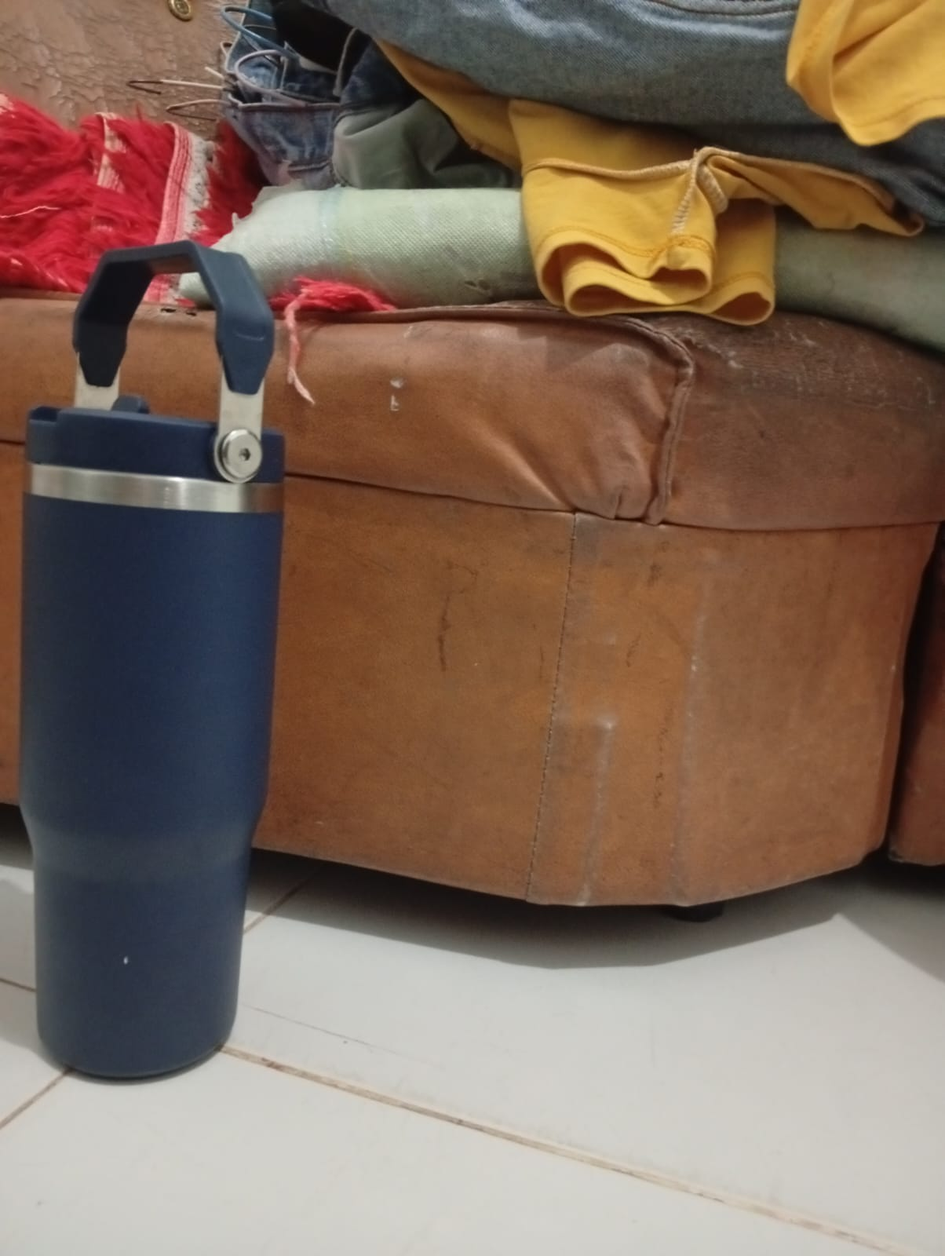Tupperware: (18, 226, 311, 1088)
